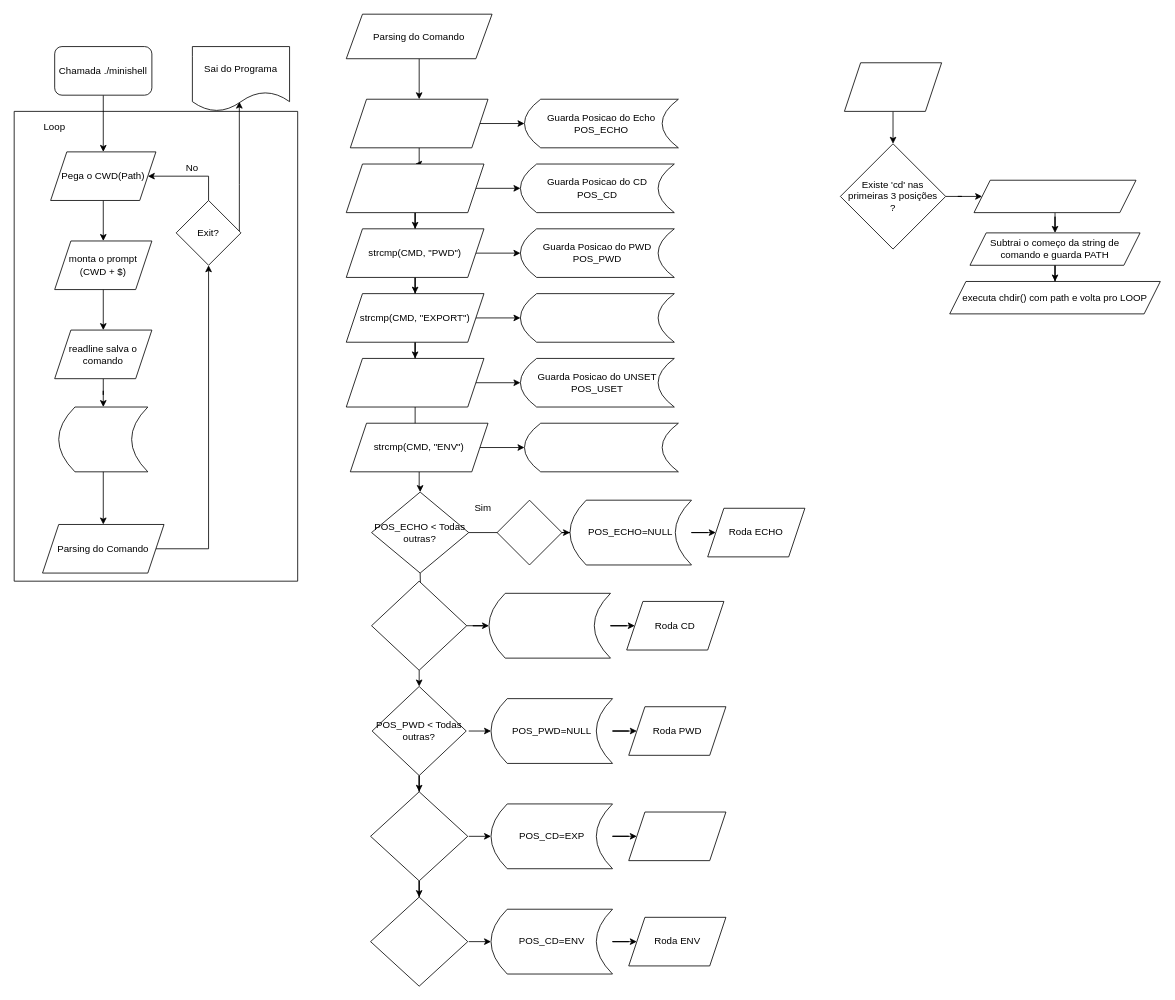
Image size: 1175x1000. Some labels were removed from this diagram. The shapes that lost their labels are listed below. From the top down, each one's box as (x1, y1, x2, y2) in pixels, then its label:
(844, 62, 942, 111): Execução
(350, 98, 488, 148): strcmp(CMD, "ECHO")
(345, 163, 484, 213): strcmp(CMD, "CD")
(973, 179, 1136, 213): Busca posição do ' ' depois do 'cd' e guarda no 'space'
(520, 293, 674, 342): Guarda Posicao do EXPORT POS_EXP
(345, 358, 484, 407): strcmp(CMD, "UNSET")
(58, 406, 148, 472): add_history
(524, 422, 678, 472): Guarda Posicao do ENV POS_ENV
(496, 499, 562, 565): Existe "-n"
(371, 580, 467, 670): POS_CD <Todas outras ?
(488, 593, 610, 658): POS_CD=NULL
(370, 791, 468, 881): POS_EXP < Todas outras?
(628, 811, 726, 861): Roda EXP
(370, 896, 468, 986): POS_ENV < Todas outras?
